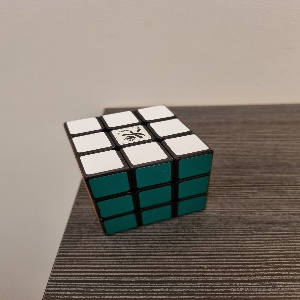cube: (63, 104, 214, 236)
